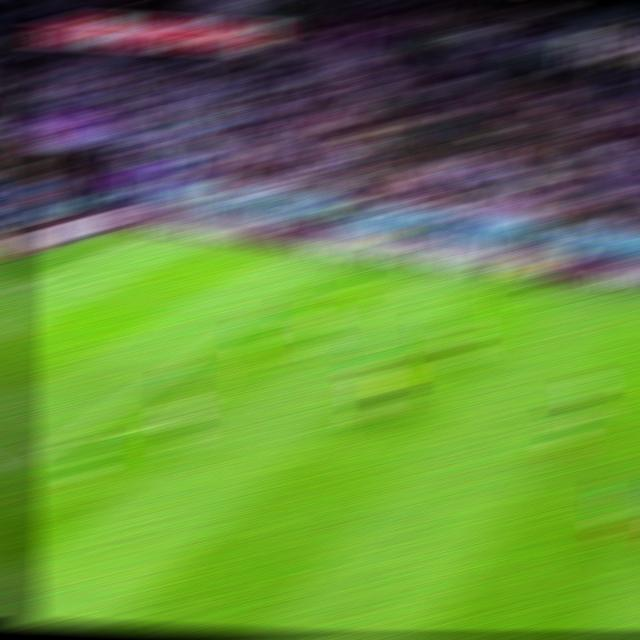bigarea_top_inner: (254, 299, 287, 313)
bigarea_top_outter: (29, 269, 64, 281)
bottom_arc_area_intersection: (43, 432, 78, 447)
corner: (121, 232, 157, 242)
smallarea_top_inner: (10, 320, 44, 334)
top_arc_area_intersection: (173, 351, 205, 365)
